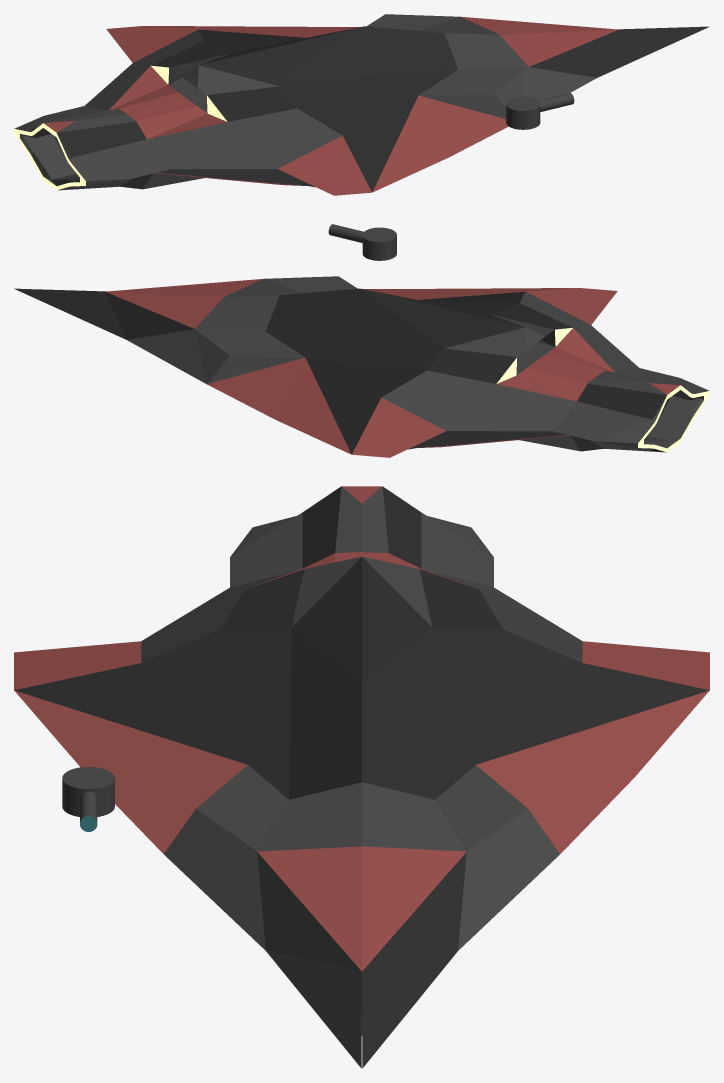
The model's file is mothership.fbx.
3 renders of one model, top to bottom at view 1: azimuth 30°, elevation 25°; view 2: azimuth 150°, elevation 25°; view 3: azimuth 270°, elevation 25°, orthographic. The views are drawn at different scales.
Visible parts, largest first — view 1: Cube.002, Cylinder.001, Cylinder; view 2: Cube.002, Cylinder.001, Cylinder; view 3: Cube.002, Cylinder.001.
Boxes of the visible parts, x1,y1,x2,y2 form: Cube.002: (14,14,709,195); Cylinder.001: (506,96,540,129); Cylinder: (539,93,574,111); Cube.002: (14,276,709,457); Cylinder.001: (362,227,396,260); Cylinder: (328,224,363,242); Cube.002: (14,486,709,1068); Cylinder.001: (62,767,114,816).
Bounding box in the file's own units: 3310 × 566 × 1980.
